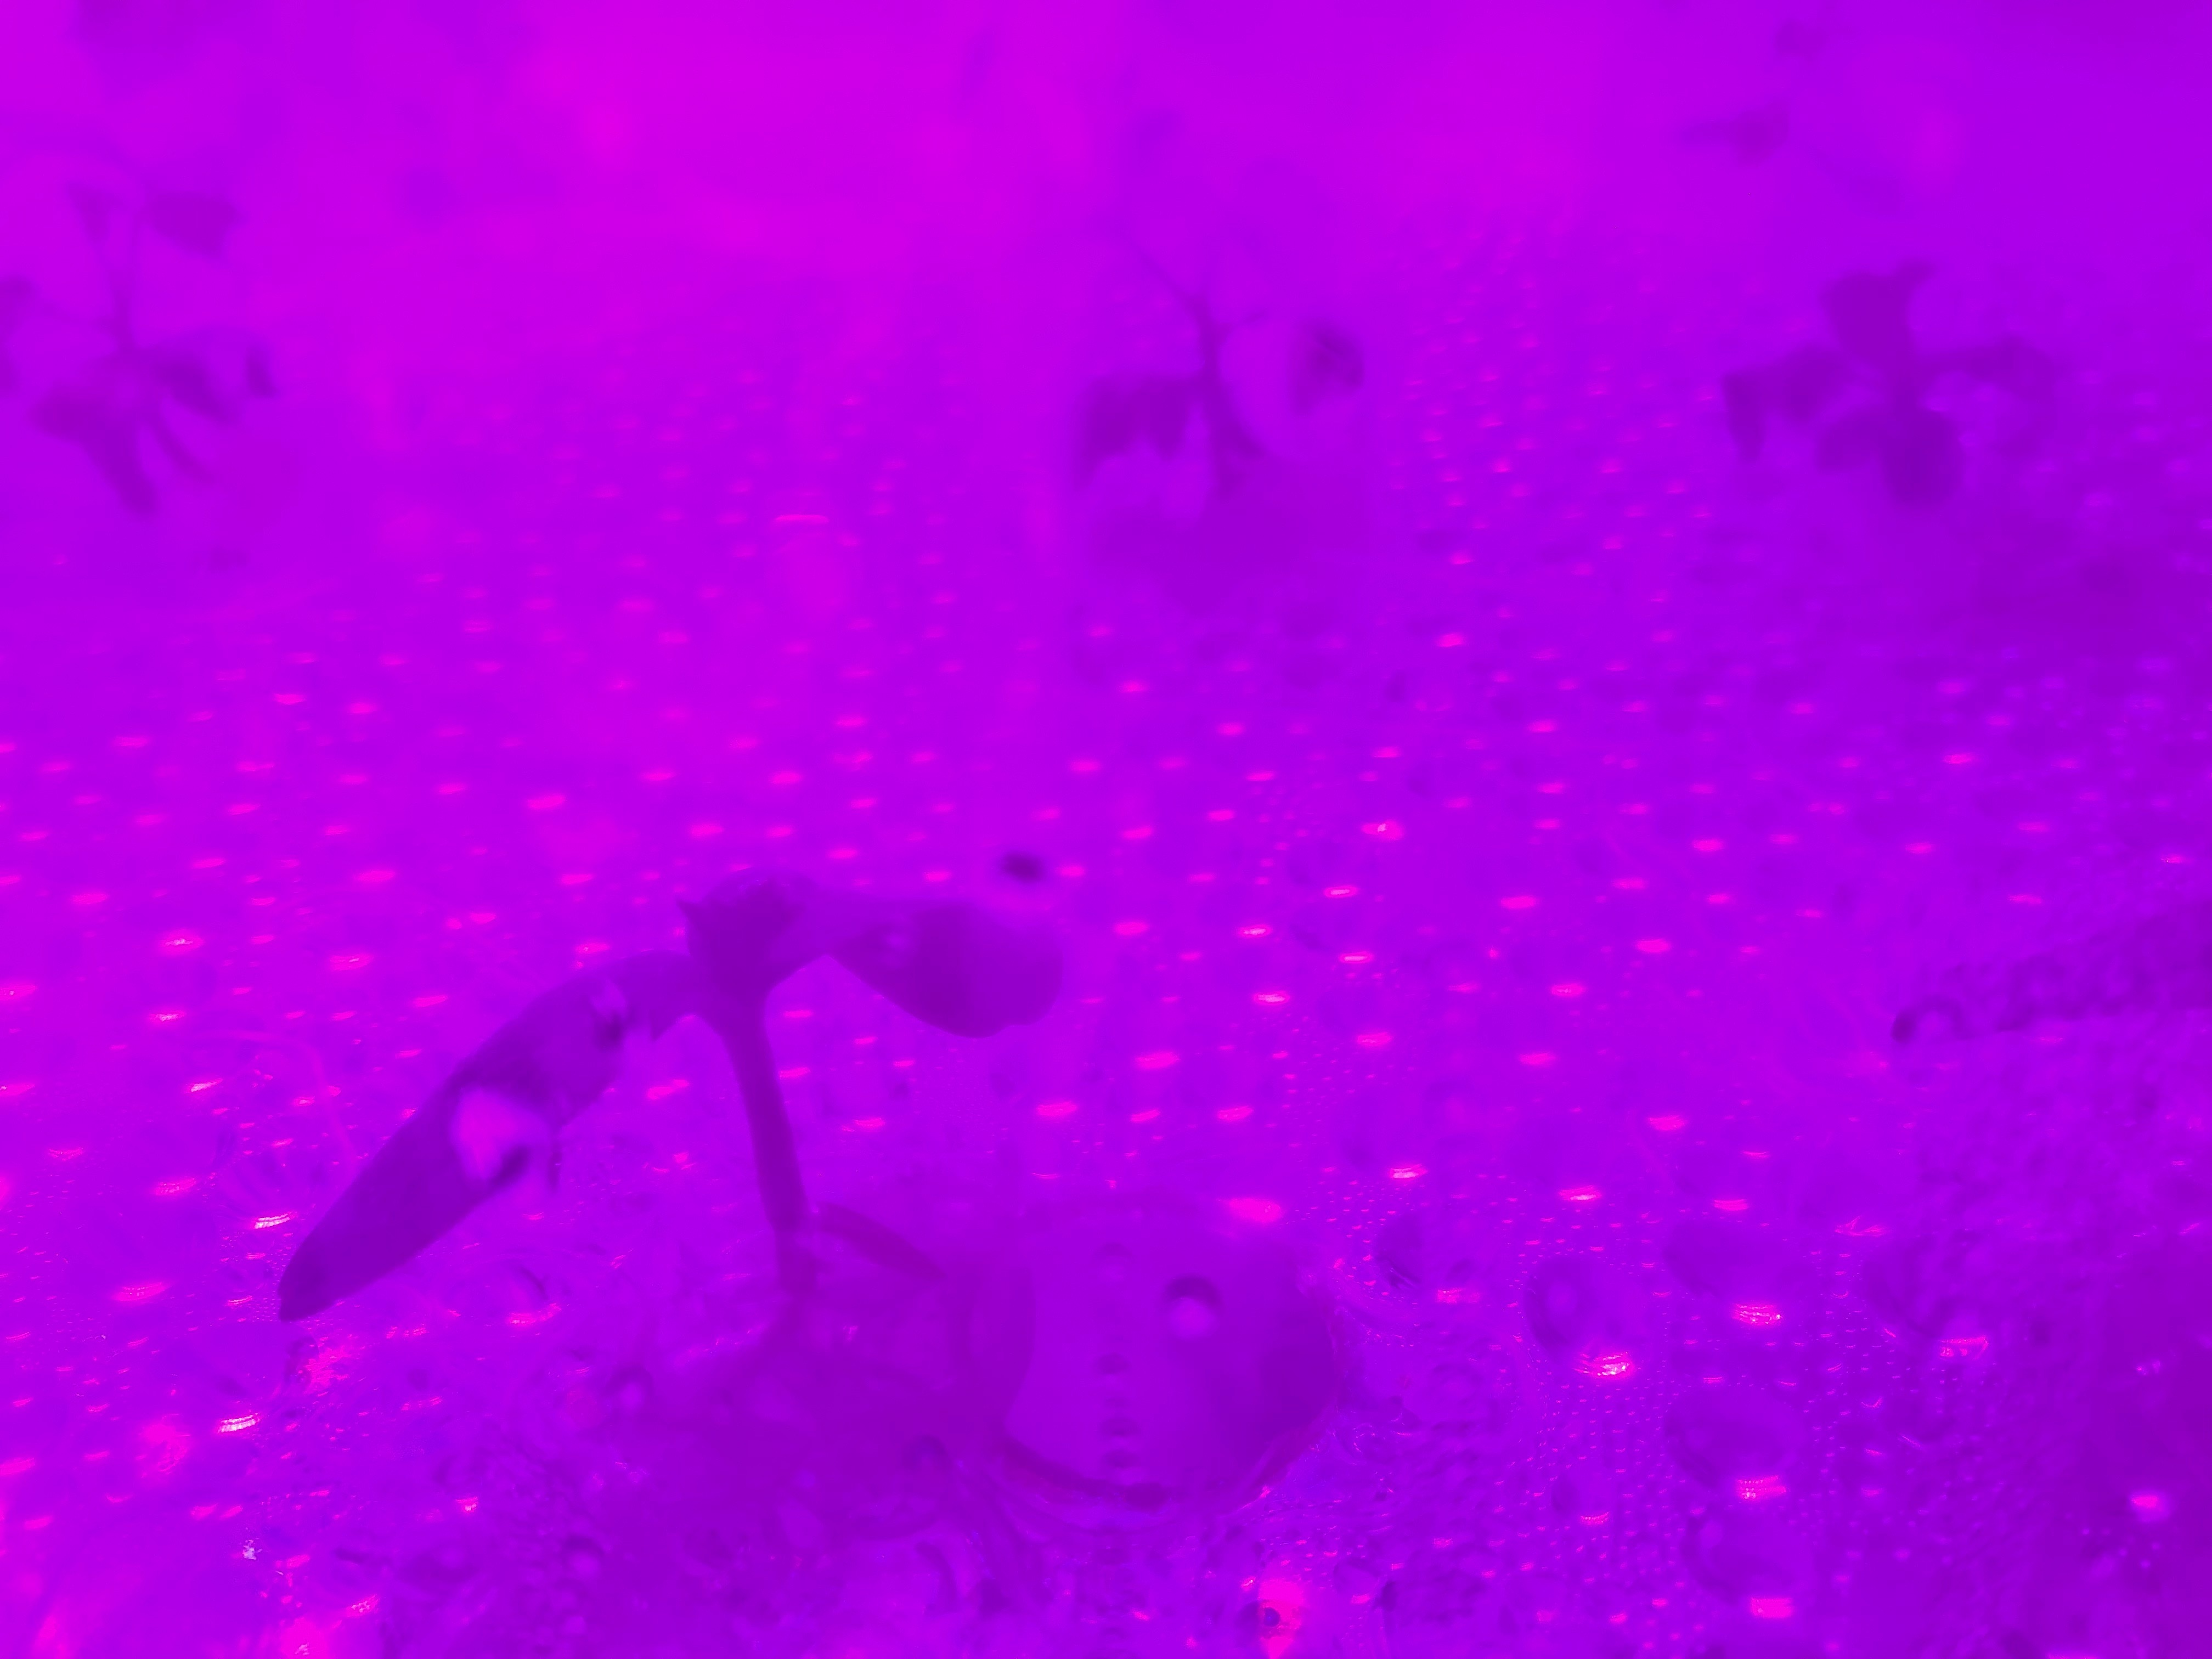lil_plant: (261, 774, 1132, 1420), (1702, 218, 2111, 554)
